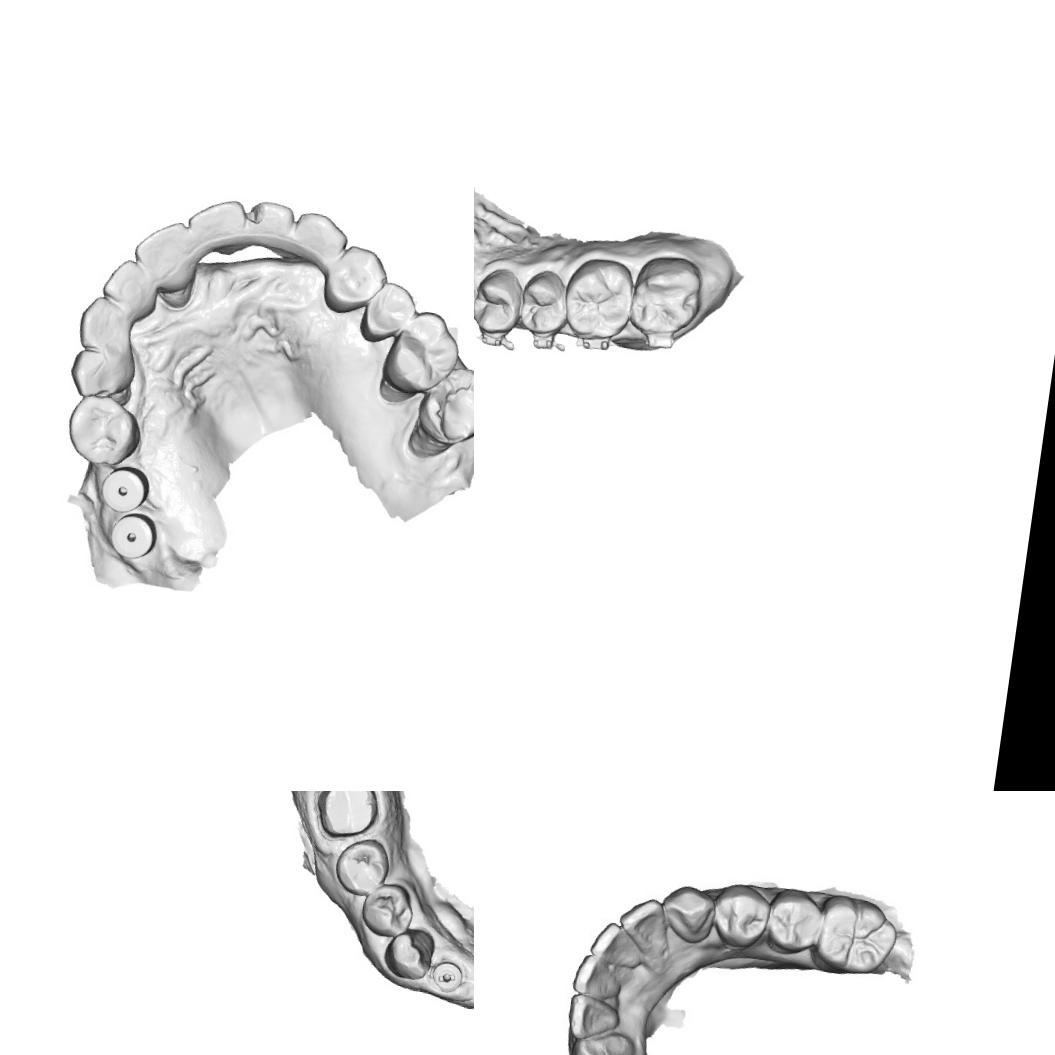canine: (75, 294, 148, 358), (288, 207, 353, 274), (659, 882, 716, 948), (380, 923, 439, 984), (565, 1027, 629, 1055)
crown: (311, 791, 385, 844)
implant: (105, 513, 160, 561), (100, 465, 150, 516)
implant_minus: (429, 956, 469, 1000)
incisor: (126, 214, 200, 294), (182, 188, 252, 260), (95, 254, 165, 321), (240, 194, 300, 258), (614, 894, 674, 958), (570, 951, 630, 1010), (586, 920, 649, 972), (565, 994, 626, 1040)
molar: (376, 304, 470, 402), (812, 891, 904, 983), (560, 251, 642, 344), (627, 250, 708, 342), (409, 358, 474, 455)
premolar: (314, 238, 390, 321), (68, 394, 146, 467), (356, 275, 422, 350), (474, 262, 534, 339), (330, 834, 394, 902), (515, 266, 574, 339), (709, 880, 771, 949), (764, 890, 826, 958), (357, 878, 420, 941), (66, 344, 131, 404)
